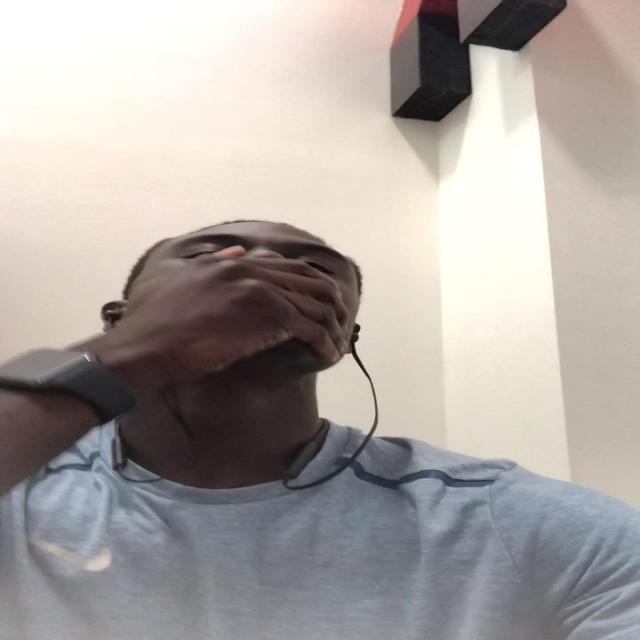face: (119, 226, 363, 370)
